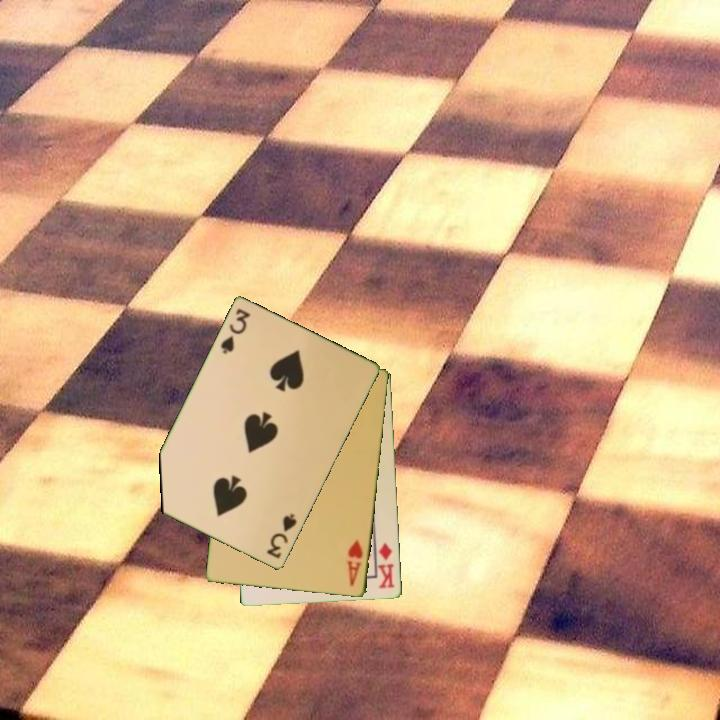3s: (263, 510, 300, 562), (217, 305, 253, 357)
Ah: (343, 536, 366, 589)
Kd: (375, 539, 398, 591)
